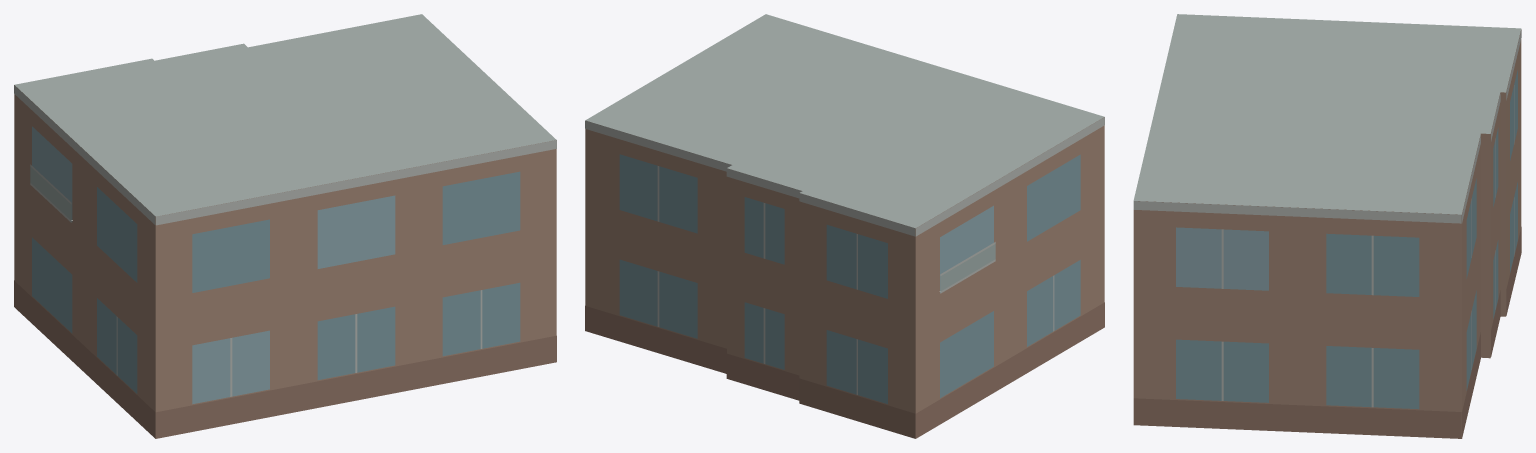
The model's file is survey-upis-32805726.glb.
3 renders of one model, left to right at view 1: azimuth 30°, elevation 25°; view 2: azimuth 150°, elevation 25°; view 3: azimuth 270°, elevation 25°, orthographic. The views are drawn at different scales.
Parts seen in each view (by area): view 1: survey-upis-32805726.tmp; view 2: survey-upis-32805726.tmp; view 3: survey-upis-32805726.tmp.
Boxes of the visible parts, bbox=[...] form: survey-upis-32805726.tmp: bbox=[14, 14, 556, 438]; survey-upis-32805726.tmp: bbox=[585, 14, 1104, 438]; survey-upis-32805726.tmp: bbox=[1133, 14, 1521, 438].
Bounding box in the file's own units: 11.71 × 6.1 × 9.58.
